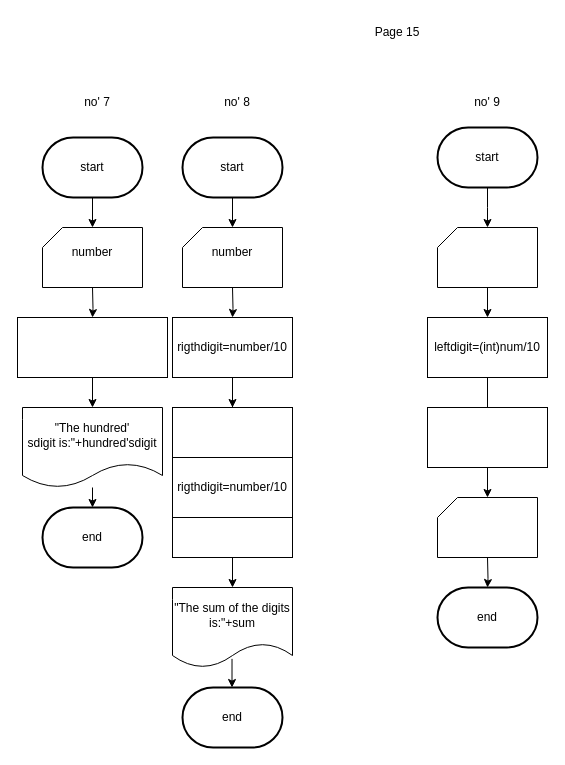
This 565x765 diagram has some shape labels left out. The shapes that lost their labels are listed below. From the top down, each one's centre as x and y in pixels, then its label:
At (x=487, y=257): "num".
At (x=92, y=347): "hundred'sdigit=number/100".
At (x=232, y=437): "leftdigit=number%10".
At (x=487, y=437): "rigthdigit=num%10".
At (x=232, y=527): "sum=rigthdigit+leftdigit".
At (x=487, y=527): "rigthdigit+leftdigit".
